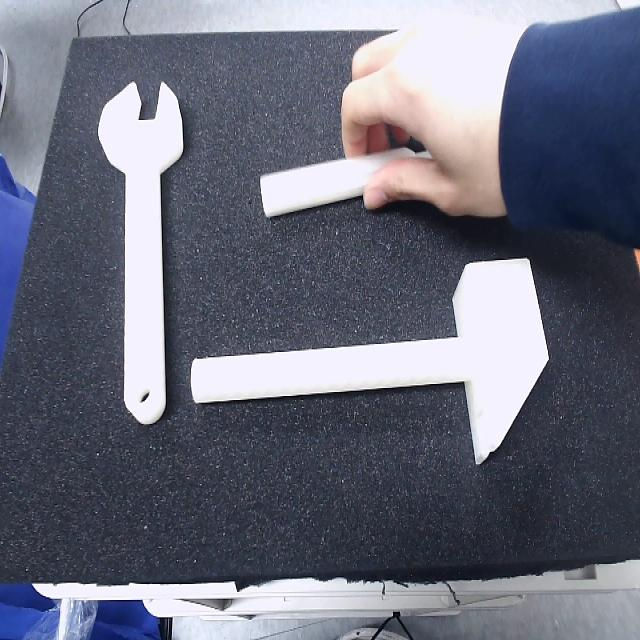Hammer: (190, 259, 549, 465)
Spanner: (97, 84, 184, 428)
